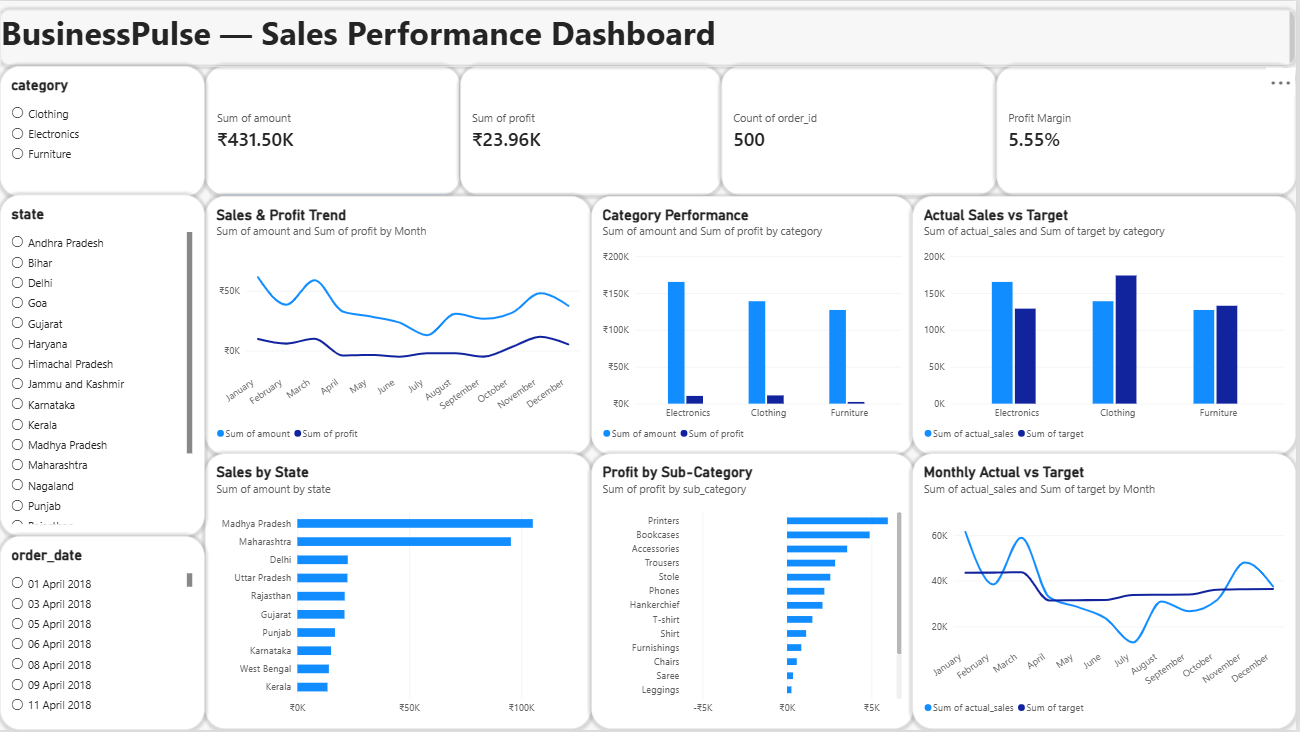

Layout of this report page (visuals, bound fields, positions):
{"tool":"powerbi","page":{"name":"Page 1","canvas":[1920,1080],"ordinal":0},"visuals":[{"type":"cardVisual","fields":{"Data":["Sum(public sales.amount)"]},"box":[302.9,96.8,378.6,191.4],"z":0},{"type":"cardVisual","fields":{"Data":["Sum(public sales.profit)"]},"box":[681.5,96.8,387,191.4],"z":1000},{"type":"cardVisual","fields":{"Data":["Count(public sales.order_id)"]},"box":[1068.5,96.8,408.1,191.4],"z":2000},{"type":"cardVisual","fields":{"Data":["public sales.Profit Margin"]},"box":[1476.6,96.8,443.8,191.4],"z":3000},{"type":"lineChart","title":"Sales & Profit Trend","fields":{"Category":["public sales.order_date.Variation.Date Hierarchy.Month"],"Y":["Sum(public sales.amount)","Sum(public sales.profit)"]},"box":[302.9,288.2,572.1,382.8],"z":4000},{"type":"clusteredColumnChart","title":"Category Performance","fields":{"Category":["public sales.category"],"Y":["Sum(public sales.amount)","Sum(public sales.profit)"]},"box":[875,288.2,477.5,382.8],"z":5000},{"type":"clusteredColumnChart","title":"Actual Sales vs Target","fields":{"Category":["public sales_target_performance.category"],"Y":["Sum(public sales_target_performance.actual_sales)","Sum(public sales_target_performance.target)"]},"box":[1352.5,288.2,567.9,382.8],"z":6000},{"type":"clusteredBarChart","title":"Sales by State","fields":{"Category":["public sales.state"],"Y":["Sum(public sales.amount)"]},"box":[302.9,671,572.1,408.1],"z":7000},{"type":"barChart","title":"Profit by Sub-Category","fields":{"Category":["public sales.sub_category"],"Y":["Sum(public sales.profit)"]},"box":[875,671,477.5,408.1],"z":8000},{"type":"lineChart","title":"Monthly Actual vs Target","fields":{"Category":["public sales_target_performance.month.Variation.Date Hierarchy.Month"],"Y":["Sum(public sales_target_performance.actual_sales)","Sum(public sales_target_performance.target)"]},"box":[1352.5,671,567.9,408.1],"z":9000},{"type":"textbox","box":[0,13.7,1919.5,82],"z":10000},{"type":"listSlicer","fields":{"Values":["public sales_target_performance.category"]},"box":[0,95.6,302.8,193.5],"z":11000},{"type":"listSlicer","fields":{"Values":["public sales.state"]},"box":[0,286.9,302.8,505.5],"z":12000},{"type":"listSlicer","fields":{"Values":["public sales.order_date"]},"box":[0,792.4,302.8,286.9],"z":13000}]}

Visuals, with their boxes in screenshot pixels (x1, y1, x2, y2), scaled from the page's 1920x1080 canvas onto the 1300x732 screenshot:
cardVisual - Sum(public sales.amount): bbox(205, 66, 461, 195)
cardVisual - Sum(public sales.profit): bbox(461, 66, 723, 195)
cardVisual - Count(public sales.order_id): bbox(723, 66, 1000, 195)
cardVisual - public sales.Profit Margin: bbox(1000, 66, 1299, 195)
"Sales & Profit Trend" lineChart: bbox(205, 195, 592, 455)
"Category Performance" clusteredColumnChart: bbox(592, 195, 916, 455)
"Actual Sales vs Target" clusteredColumnChart: bbox(916, 195, 1299, 455)
"Sales by State" clusteredBarChart: bbox(205, 455, 592, 731)
"Profit by Sub-Category" barChart: bbox(592, 455, 916, 731)
"Monthly Actual vs Target" lineChart: bbox(916, 455, 1299, 731)
textbox: bbox(0, 9, 1299, 65)
listSlicer - public sales_target_performance.category: bbox(0, 65, 205, 196)
listSlicer - public sales.state: bbox(0, 194, 205, 537)
listSlicer - public sales.order_date: bbox(0, 537, 205, 731)
